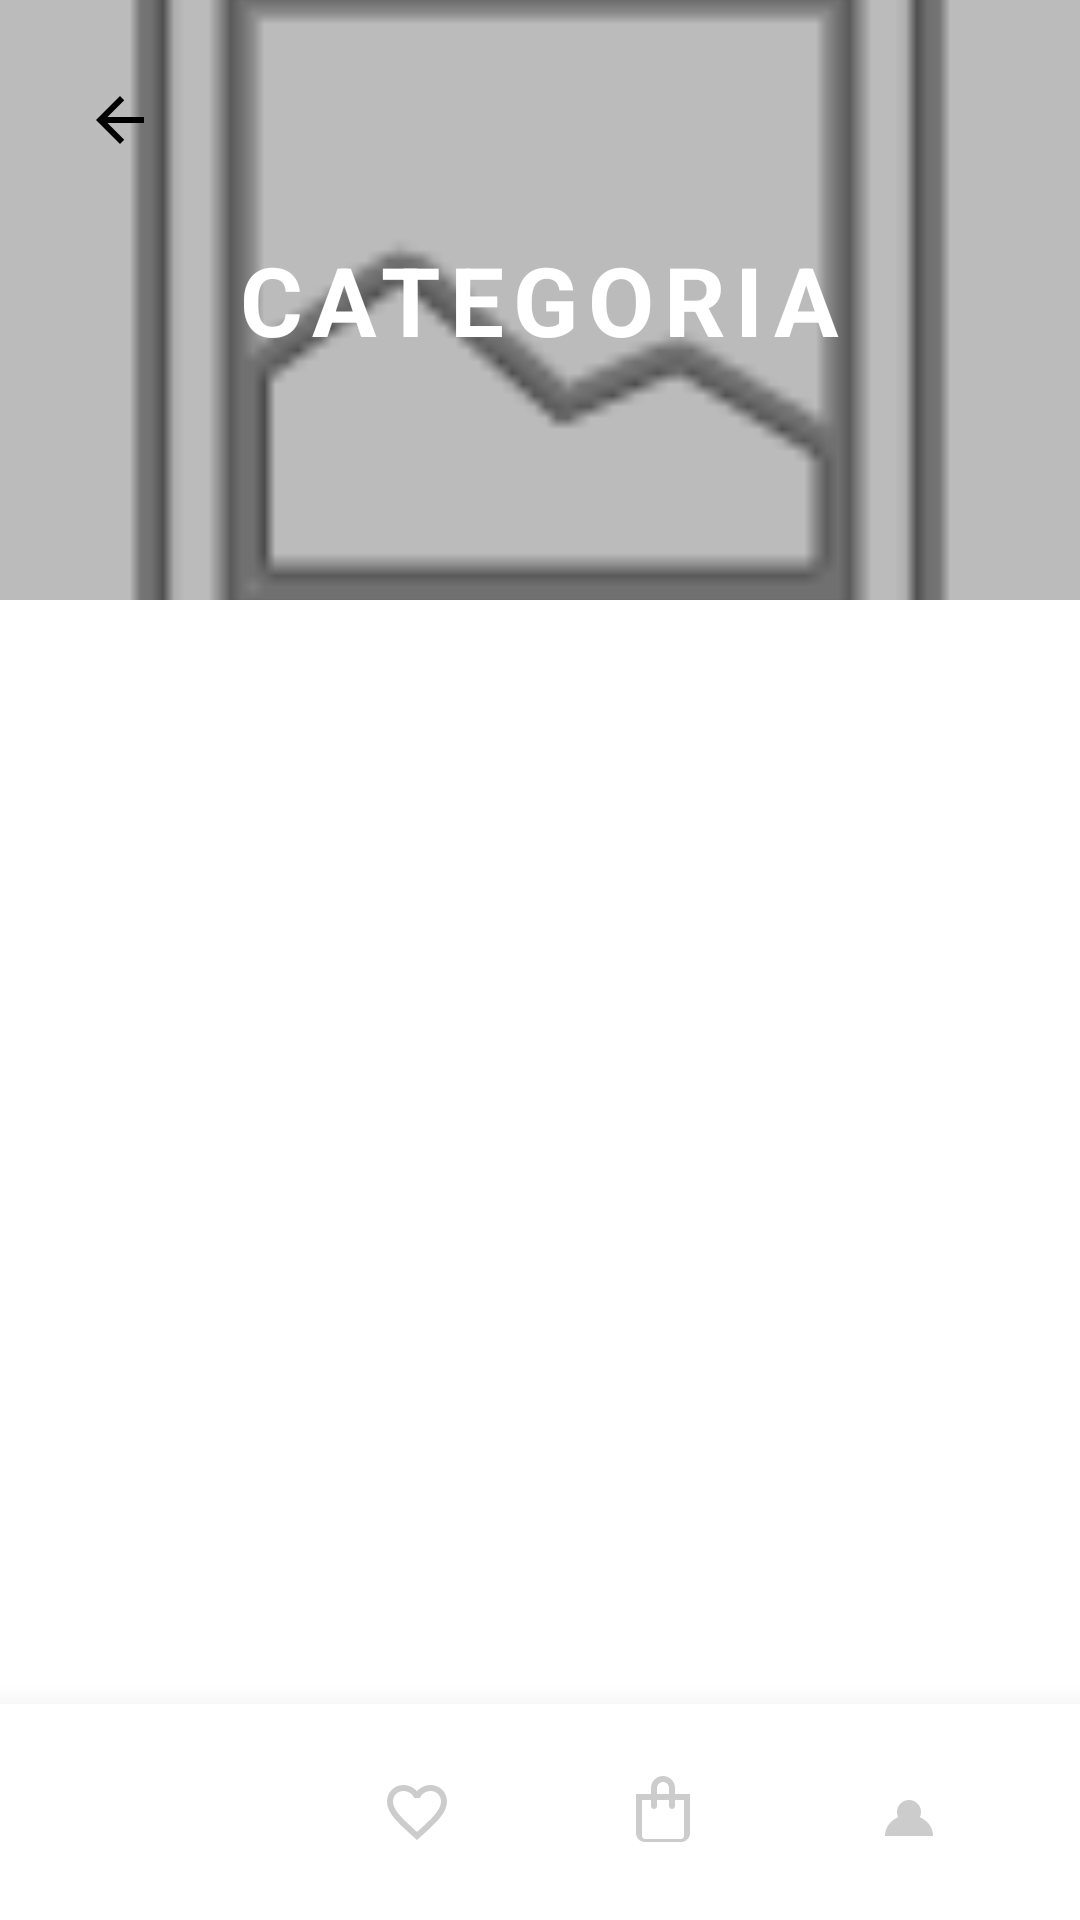

Where to tap for icons on this 1080px x 1920px app screen, as (x,y):
bag: (663,1809)
heart: (417,1812)
person: (909,1818)
